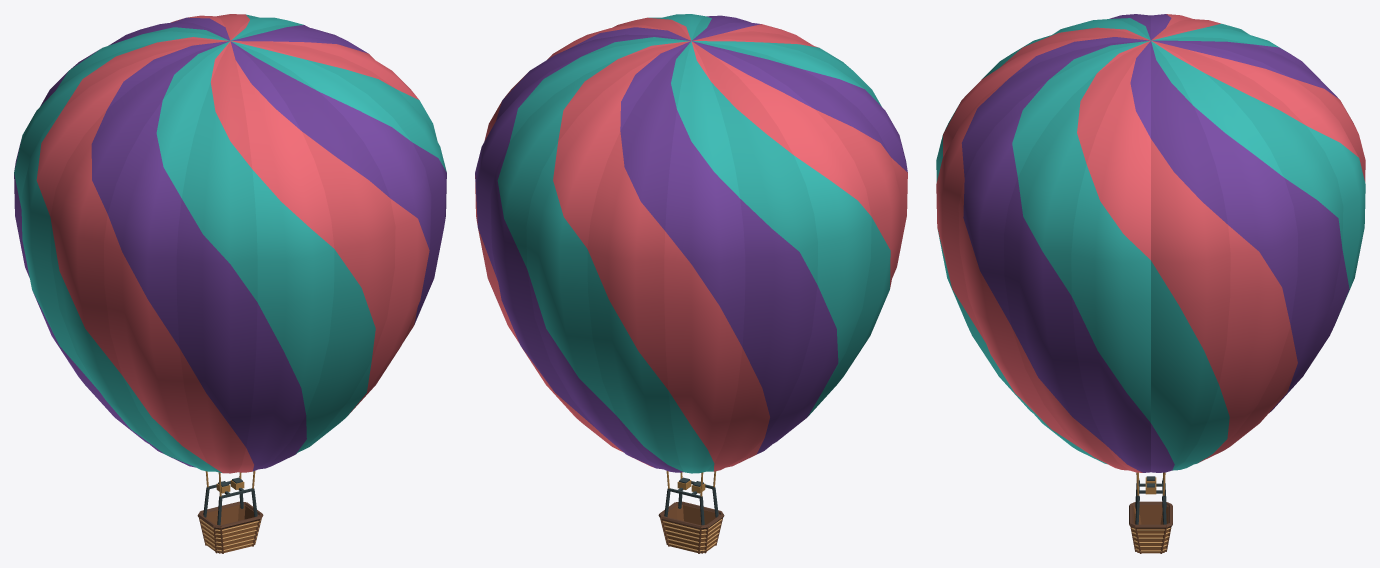
The model's file is hot_air_balloon_festival_ribbons.glb.
3 renders of one model, left to right at view 1: azimuth 30°, elevation 25°; view 2: azimuth 150°, elevation 25°; view 3: azimuth 270°, elevation 25°, orthographic.
Visible parts, largest first — view 1: EnvelopeAndBasket; view 2: EnvelopeAndBasket; view 3: EnvelopeAndBasket.
Part boxes in pixels (x1,y1,x2,y2): EnvelopeAndBasket: (14, 14, 446, 553); EnvelopeAndBasket: (475, 14, 907, 553); EnvelopeAndBasket: (936, 14, 1365, 553).
Size of the model in its own units: 16.46 by 21.31 by 16.46.
Materials: 1 (1 with a texture image).
